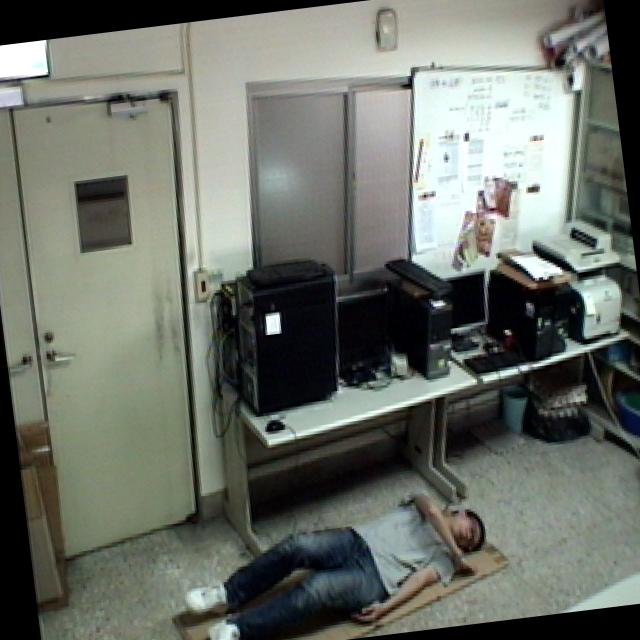lie: (166, 469, 504, 640)
